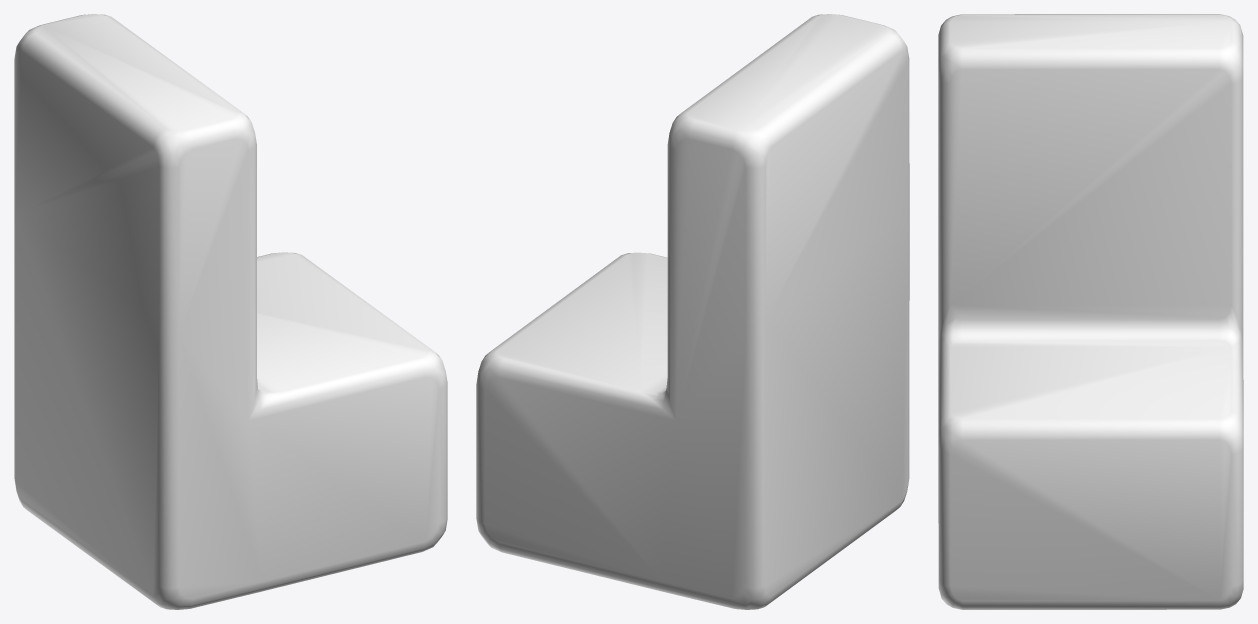
File: seat.fbx
3 renders of one model, left to right at view 1: azimuth 30°, elevation 25°; view 2: azimuth 150°, elevation 25°; view 3: azimuth 270°, elevation 25°, orthographic. The views are drawn at different scales.
Parts seen in each view (by area): view 1: Cube.015; view 2: Cube.015; view 3: Cube.015.
Boxes of the visible parts, x1,y1,x2,y2 form: Cube.015: (14, 14, 447, 609); Cube.015: (476, 14, 909, 609); Cube.015: (938, 14, 1243, 609).
Size of the model in its own units: 218 by 345 by 204.
